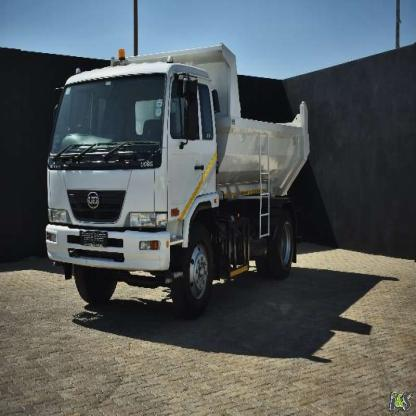dump_truck: (43, 44, 313, 319)
